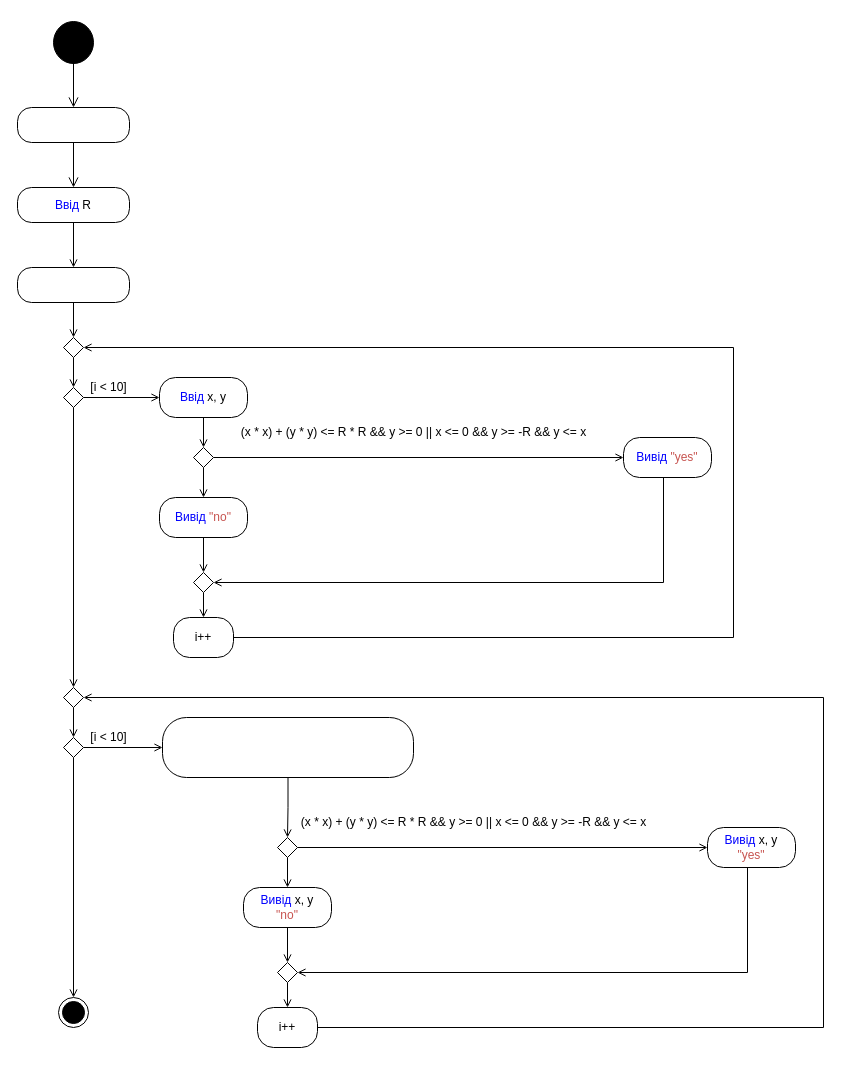
This 849x1065 diagram has some shape labels left out. The centre of each missing label's shape, as x and y in pixels:
i = 0: the point at 73,284
srand(time(0)): the point at 73,124
x = (2 * R) * rand() / RAND_MAX - R; y = (2 * R) * rand() / RAND_MAX - R;: the point at 288,747
